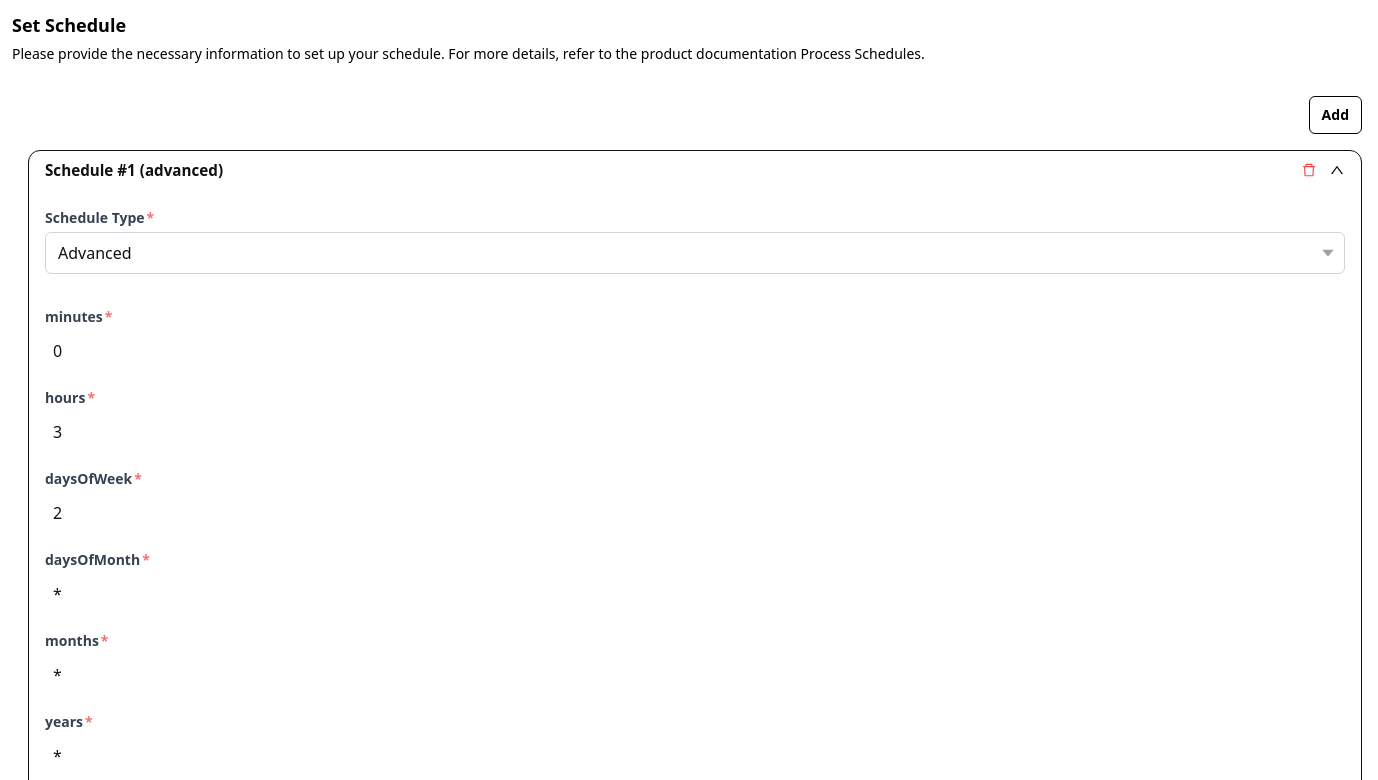
Test: UpdateSchedules empty state › saves an empty list when the user deletes the last schedule
Click the button with class "boomi-sched-card__delete" at (1309, 170), box [1301,162,1317,178]
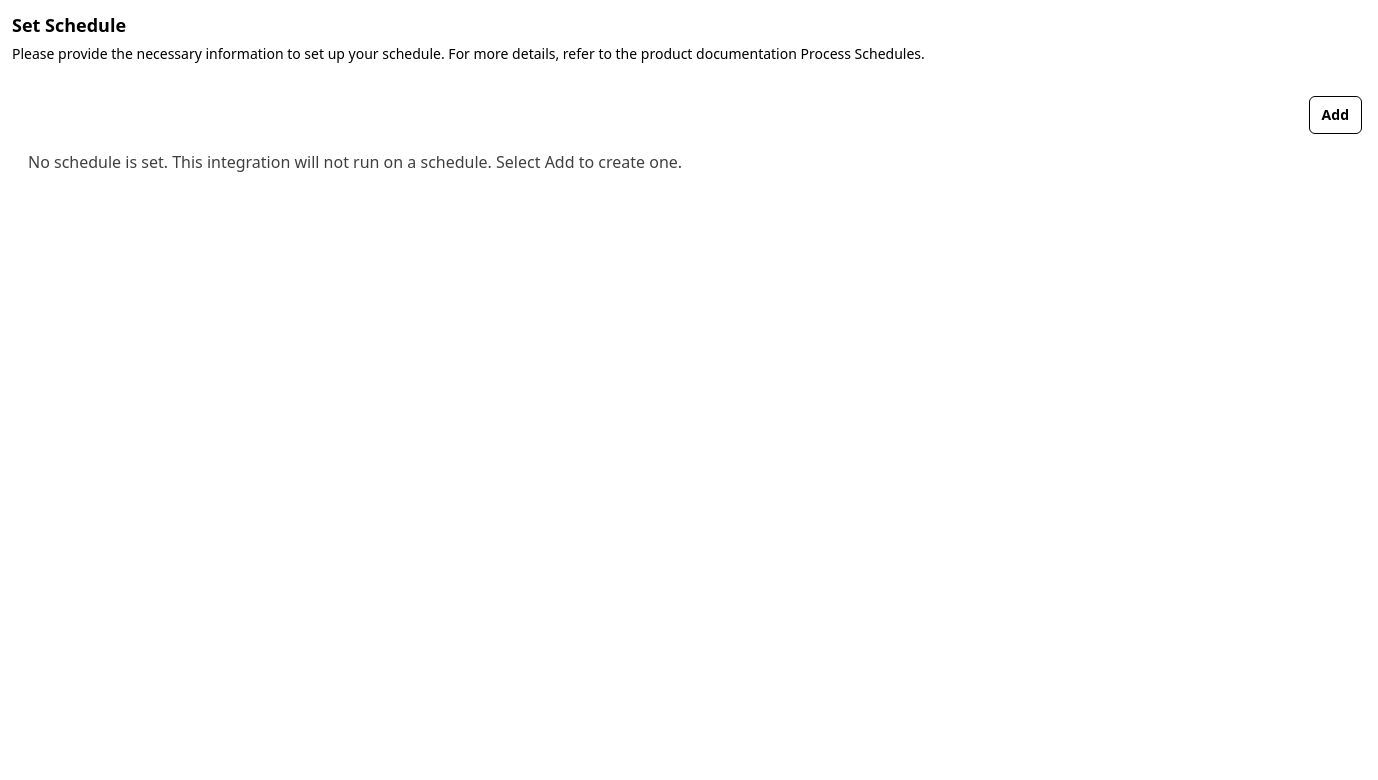
Result: the text "No schedule is set" is shown at [28,151,682,173]
